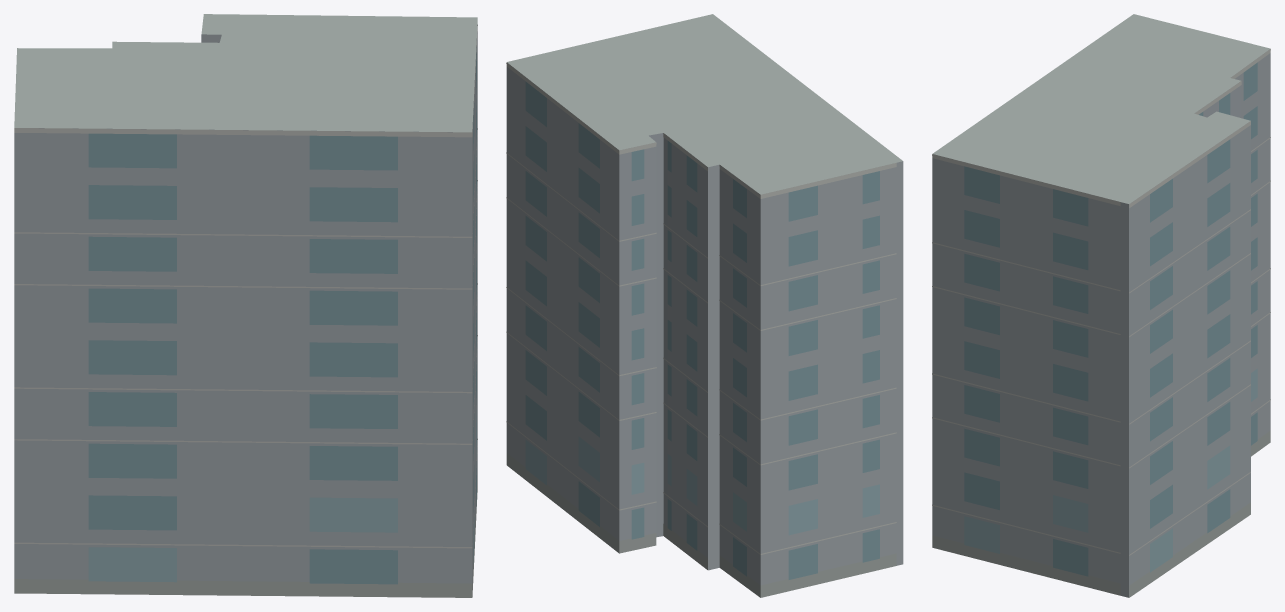
File: survey-upis-32726593.glb
The picture shows the model from 3 angles, left to right: view 1: azimuth 30°, elevation 25°; view 2: azimuth 150°, elevation 25°; view 3: azimuth 270°, elevation 25°; orthographic projection. The views are drawn at different scales.
Visible parts, largest first — view 1: survey-upis-32726593.tmp; view 2: survey-upis-32726593.tmp; view 3: survey-upis-32726593.tmp.
Part boxes in pixels (bbox=[...]): survey-upis-32726593.tmp: bbox=[14, 14, 477, 597]; survey-upis-32726593.tmp: bbox=[506, 14, 903, 597]; survey-upis-32726593.tmp: bbox=[932, 14, 1270, 597].
Bounding box in the file's own units: 23.53 × 22.7 × 17.71.
